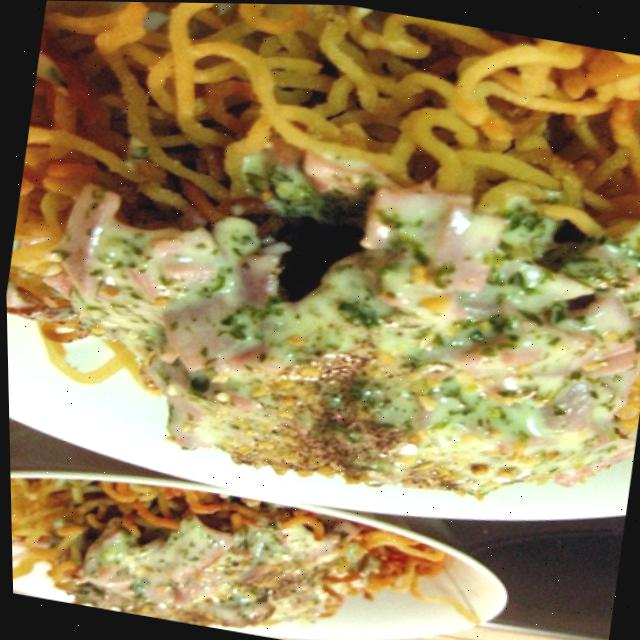面条主食: (0, 0, 640, 549)
